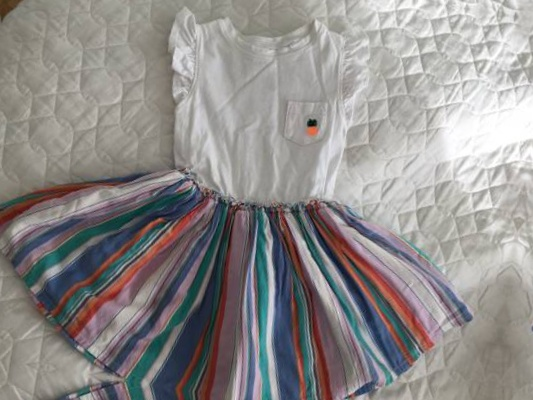Dress: (0, 0, 529, 400), (0, 362, 465, 400), (502, 58, 533, 400)
